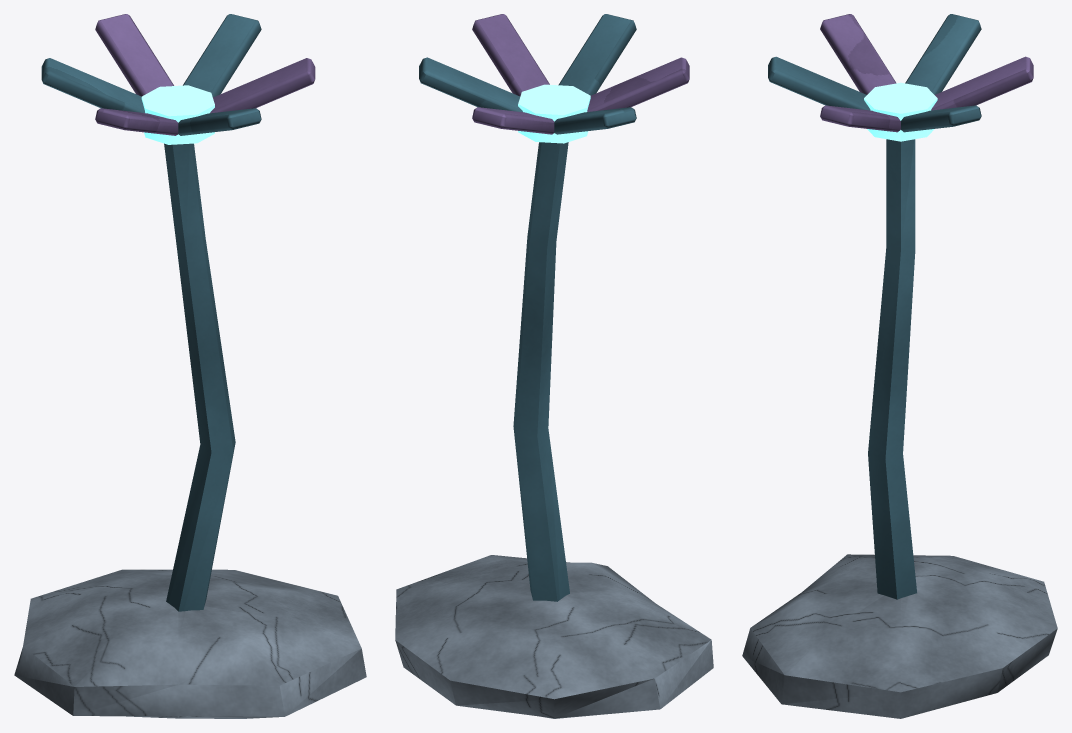
Rendered from glowing_sea_flower.glb.
3 views of the same model, side by side, from view 1: azimuth 30°, elevation 25°; view 2: azimuth 150°, elevation 25°; view 3: azimuth 270°, elevation 25° (orthographic). The views are drawn at different scales.
Visible parts, largest first — view 1: DL009_GlowingSeaFlower_stone_blue, DL009_GlowingSeaFlower_flora_body, DL009_GlowingSeaFlower_flora_violet, DL009_GlowingSeaFlower_emissive_teal; view 2: DL009_GlowingSeaFlower_stone_blue, DL009_GlowingSeaFlower_flora_body, DL009_GlowingSeaFlower_flora_violet, DL009_GlowingSeaFlower_emissive_teal; view 3: DL009_GlowingSeaFlower_stone_blue, DL009_GlowingSeaFlower_flora_body, DL009_GlowingSeaFlower_flora_violet, DL009_GlowingSeaFlower_emissive_teal.
Part boxes in pixels (x1=…): DL009_GlowingSeaFlower_stone_blue: x1=14, y1=569, x2=366, y2=718; DL009_GlowingSeaFlower_flora_body: x1=41, y1=14, x2=261, y2=611; DL009_GlowingSeaFlower_flora_violet: x1=95, y1=14, x2=315, y2=135; DL009_GlowingSeaFlower_emissive_teal: x1=141, y1=85, x2=214, y2=144; DL009_GlowingSeaFlower_stone_blue: x1=395, y1=555, x2=713, y2=718; DL009_GlowingSeaFlower_flora_body: x1=419, y1=14, x2=636, y2=601; DL009_GlowingSeaFlower_flora_violet: x1=472, y1=14, x2=689, y2=134; DL009_GlowingSeaFlower_emissive_teal: x1=518, y1=84, x2=590, y2=143; DL009_GlowingSeaFlower_stone_blue: x1=742, y1=554, x2=1057, y2=718; DL009_GlowingSeaFlower_flora_body: x1=768, y1=14, x2=981, y2=599; DL009_GlowingSeaFlower_flora_violet: x1=820, y1=14, x2=1033, y2=132; DL009_GlowingSeaFlower_emissive_teal: x1=864, y1=82, x2=937, y2=141.
Size of the model in its own units: 1.08 by 2.2 by 1.03.
4 materials, 3 textured.
